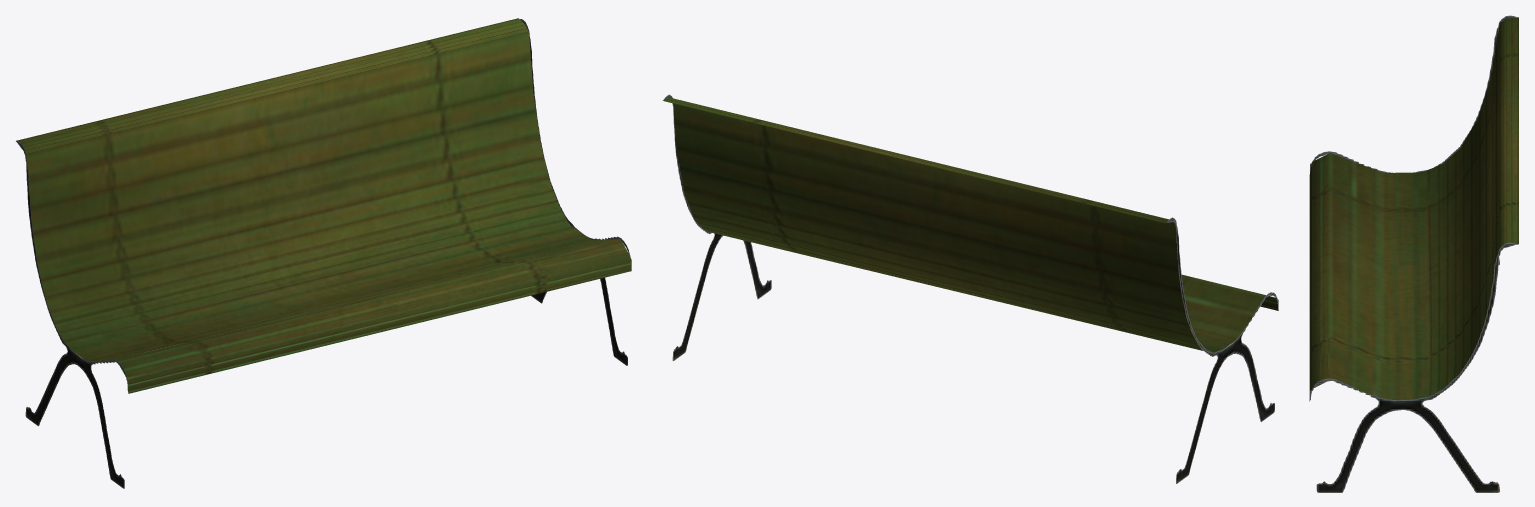
File: bench_2_v1.obj
3 renders of one model, left to right at view 1: azimuth 30°, elevation 25°; view 2: azimuth 150°, elevation 25°; view 3: azimuth 270°, elevation 25°, orthographic. The views are drawn at different scales.
Visible parts, largest first — view 1: bench_2_v1; view 2: bench_2_v1; view 3: bench_2_v1.
Part boxes in pixels (box(x1,y1,x2,y2)): bench_2_v1: box(16, 18, 631, 488); bench_2_v1: box(663, 94, 1278, 483); bench_2_v1: box(1309, 15, 1518, 492).
Size of the model in its own units: 1.7 by 0.8763 by 0.6702.
1 material, 1 textured.
